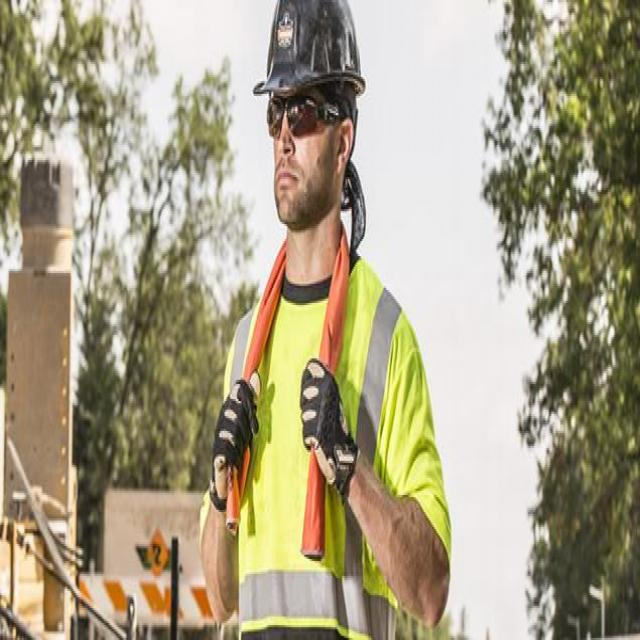Reflective-Jacket: (210, 249, 450, 638)
Safety-Helmet: (251, 2, 371, 124)
